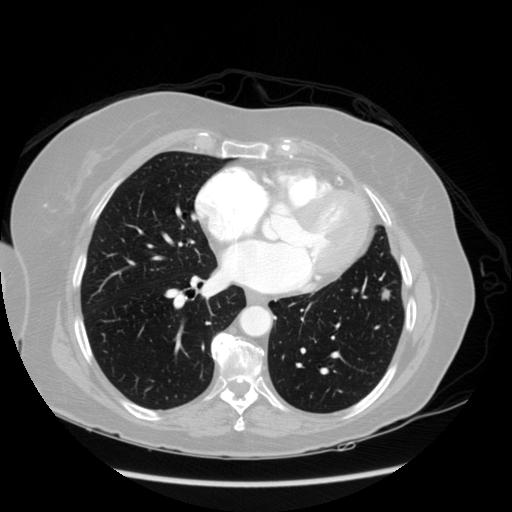nodule: (378, 286, 395, 303)
